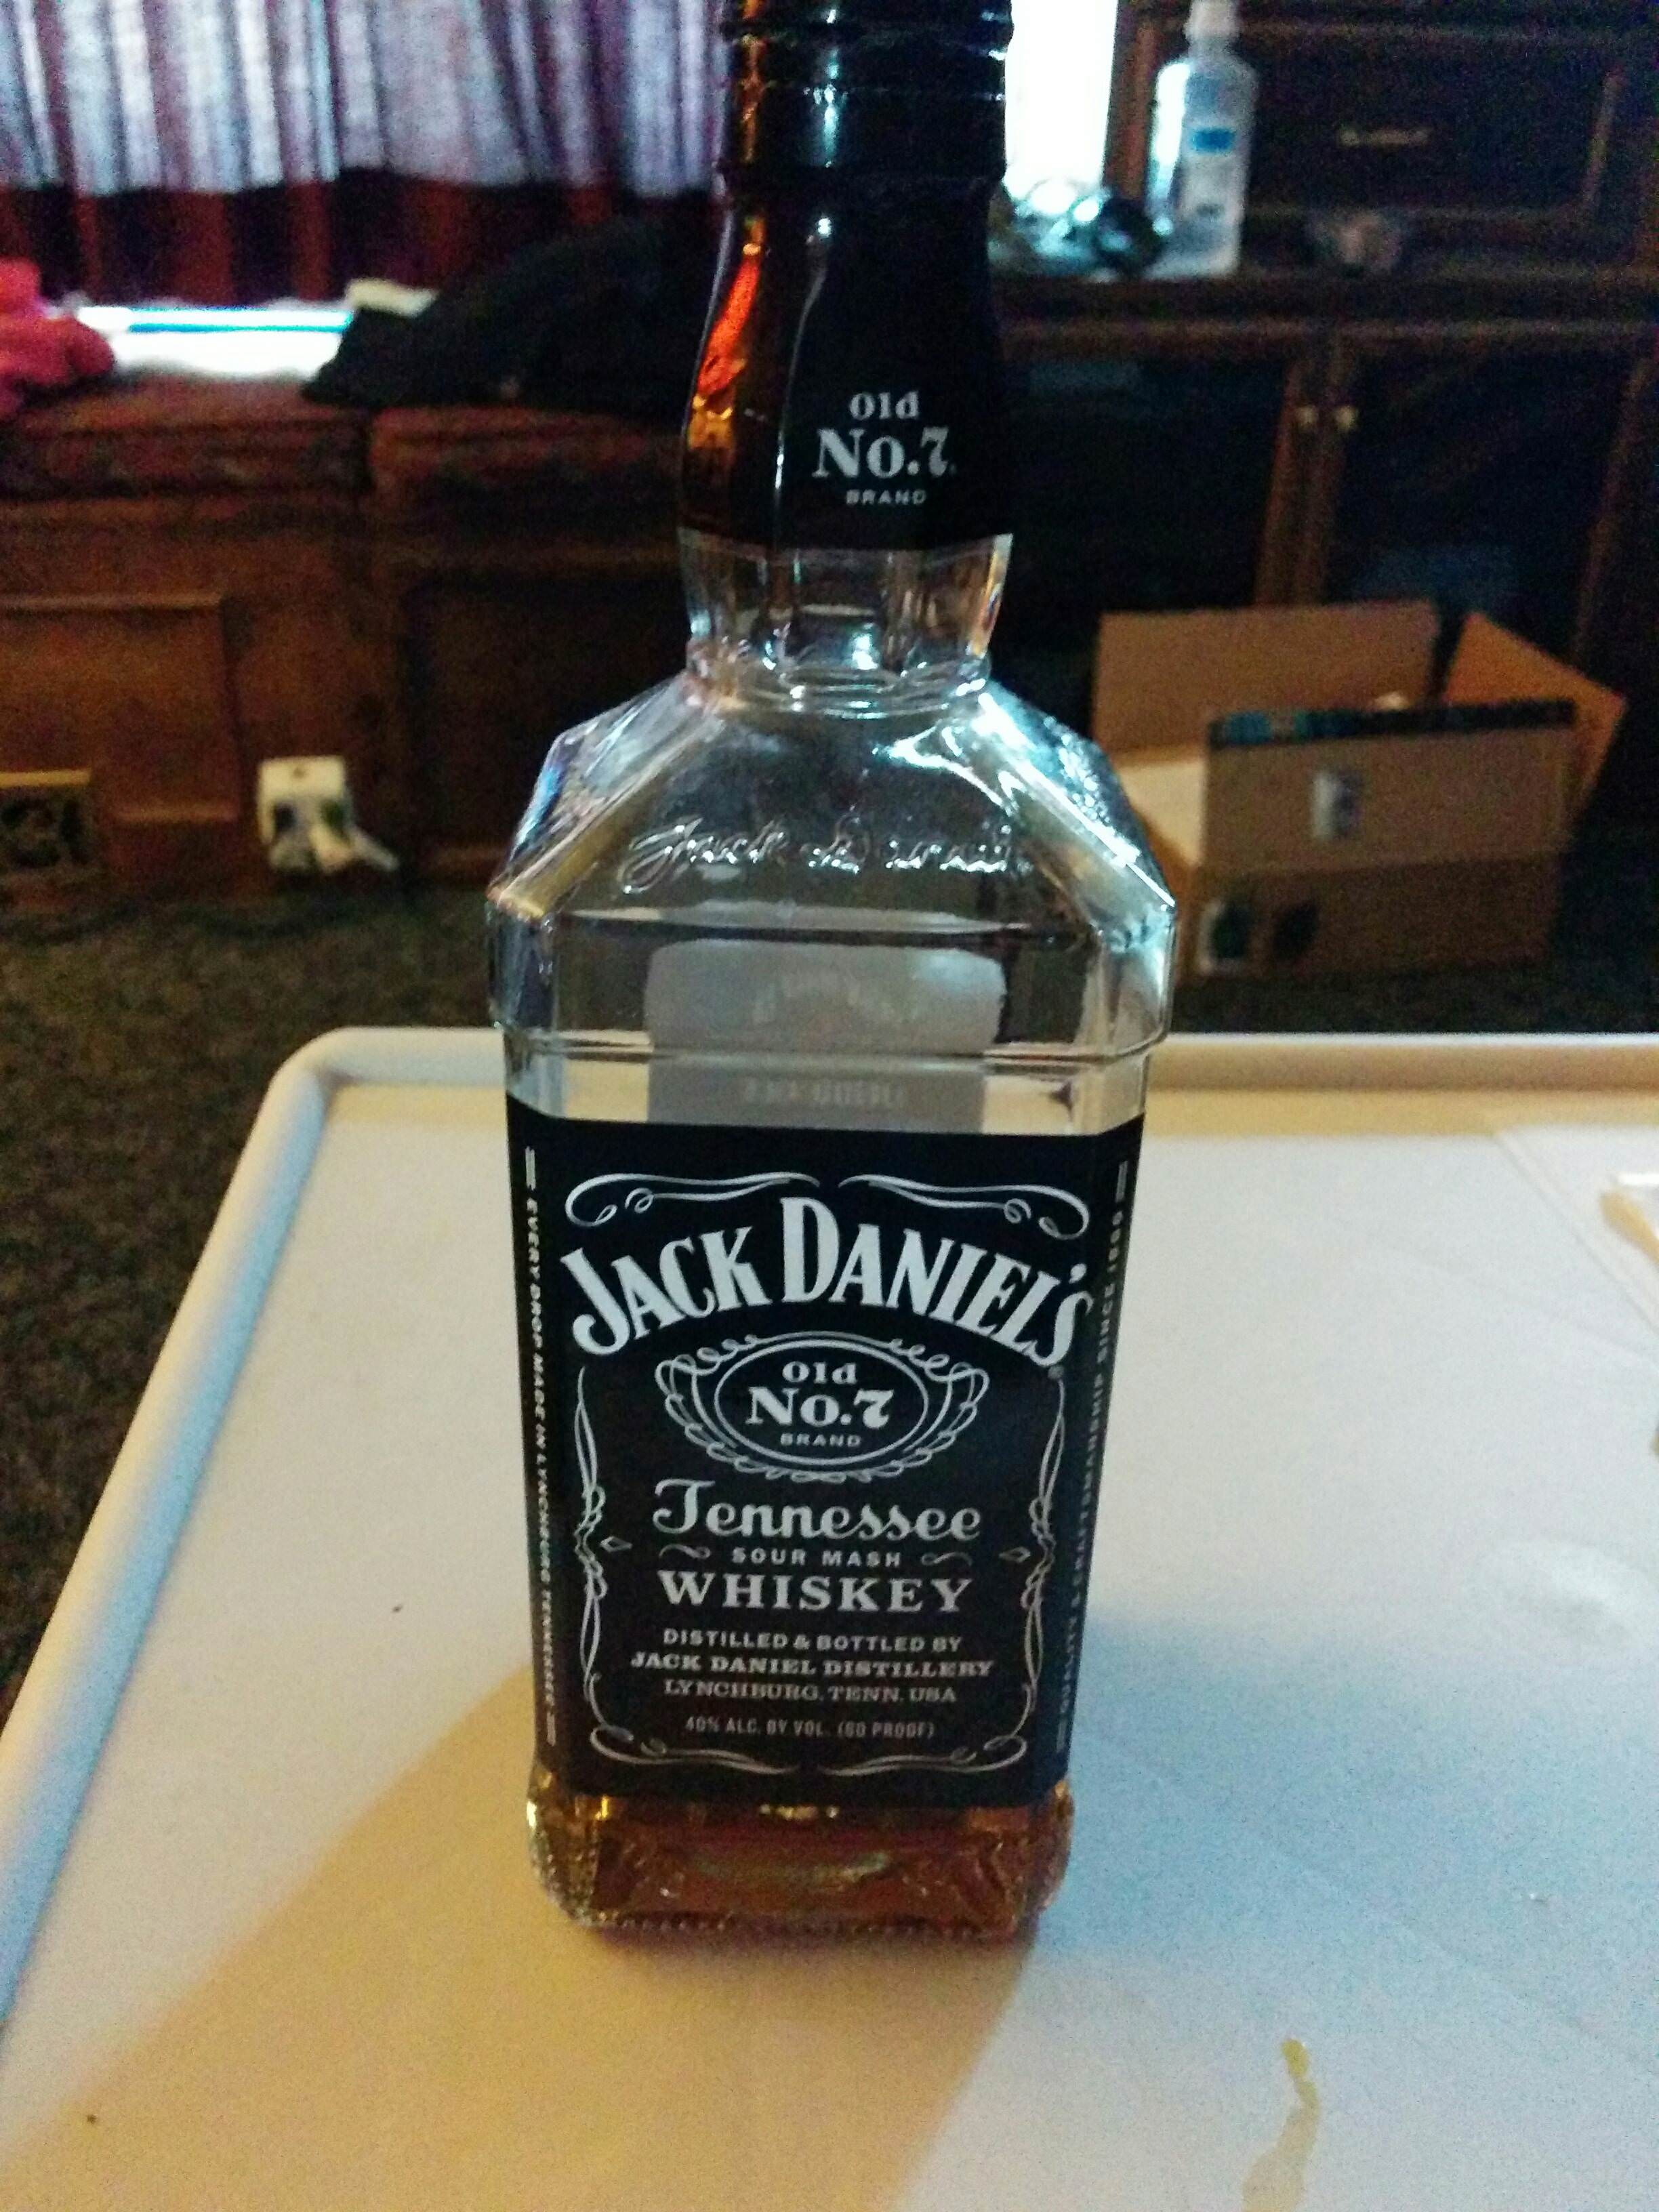Jack Daniel: (448, 5, 1197, 1980)
